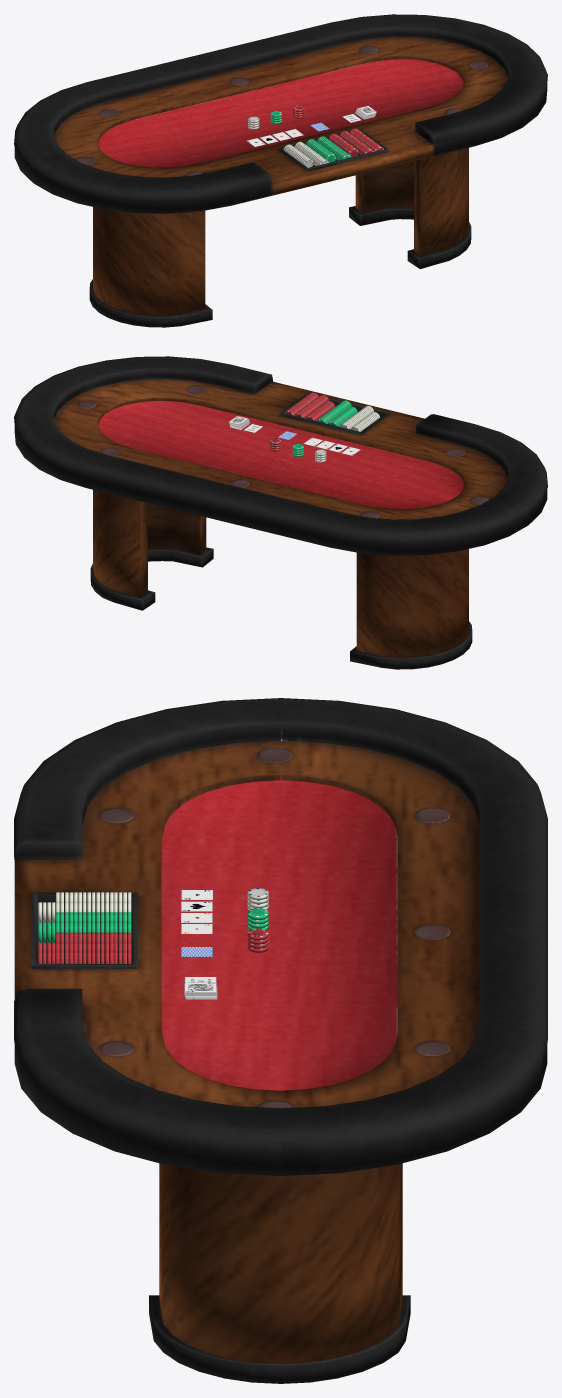
The model's file is poker_table.glb.
3 views of the same model, one above another, from view 1: azimuth 30°, elevation 25°; view 2: azimuth 150°, elevation 25°; view 3: azimuth 270°, elevation 25° (orthographic). The views are drawn at different scales.
Parts seen in each view (by area): view 1: Object_2; view 2: Object_2; view 3: Object_2.
Boxes of the visible parts, bbox=[...] form: Object_2: bbox=[14, 14, 547, 327]; Object_2: bbox=[14, 356, 547, 669]; Object_2: bbox=[14, 698, 547, 1383].
Bounding box in the file's own units: 2.93 × 0.9328 × 1.48.
1 material, 1 textured.
